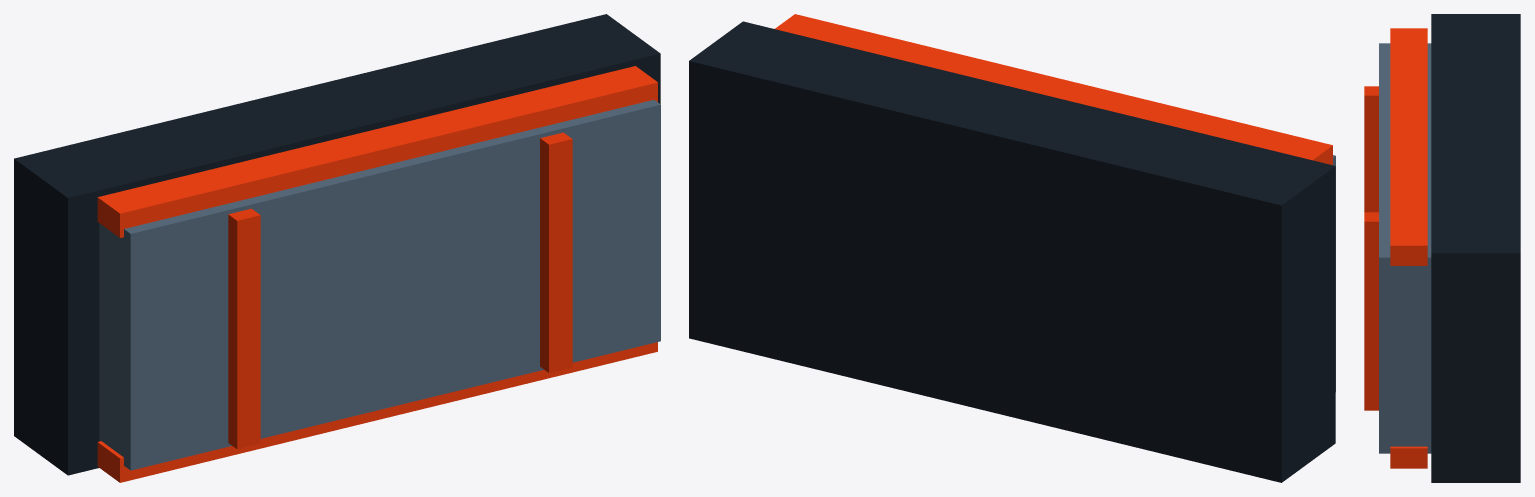
Rendered from FerraviumIngot.obj.
3 renders of one model, left to right at view 1: azimuth 30°, elevation 25°; view 2: azimuth 150°, elevation 25°; view 3: azimuth 270°, elevation 25°, orthographic. The views are drawn at different scales.
Visible parts, largest first — view 1: SM_FerraviumIngot; view 2: SM_FerraviumIngot; view 3: SM_FerraviumIngot.
Part boxes in pixels (box(x1,y1,x2,y2)): SM_FerraviumIngot: box(14, 14, 660, 482); SM_FerraviumIngot: box(689, 14, 1335, 482); SM_FerraviumIngot: box(1364, 14, 1520, 482).
Bounding box in the file's own units: 76 × 34 × 21.
